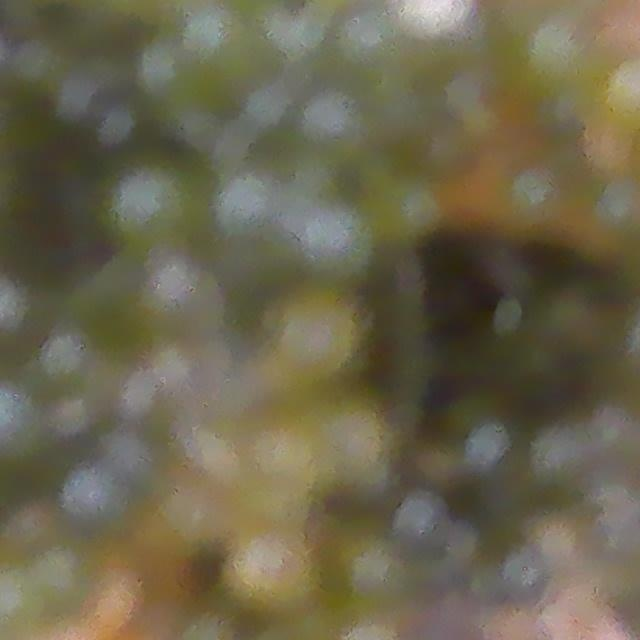SeaGrape: (274, 288, 367, 382), (136, 250, 226, 341), (105, 159, 195, 244), (214, 171, 275, 235)
